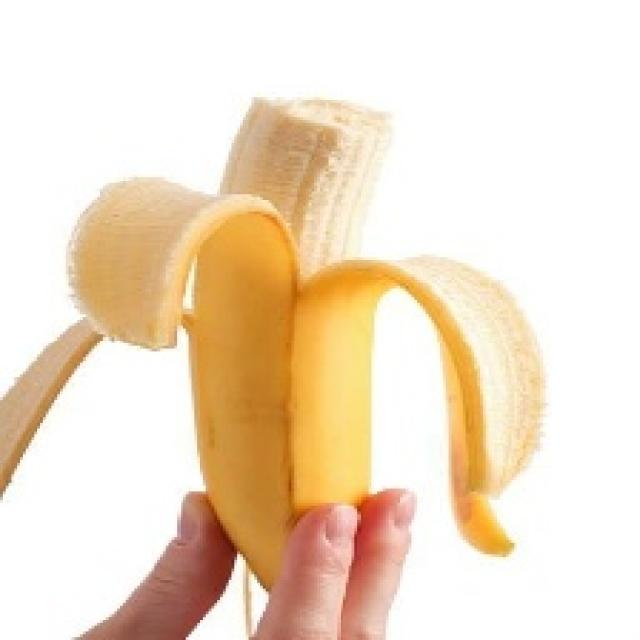Banana: (0, 92, 546, 597)
